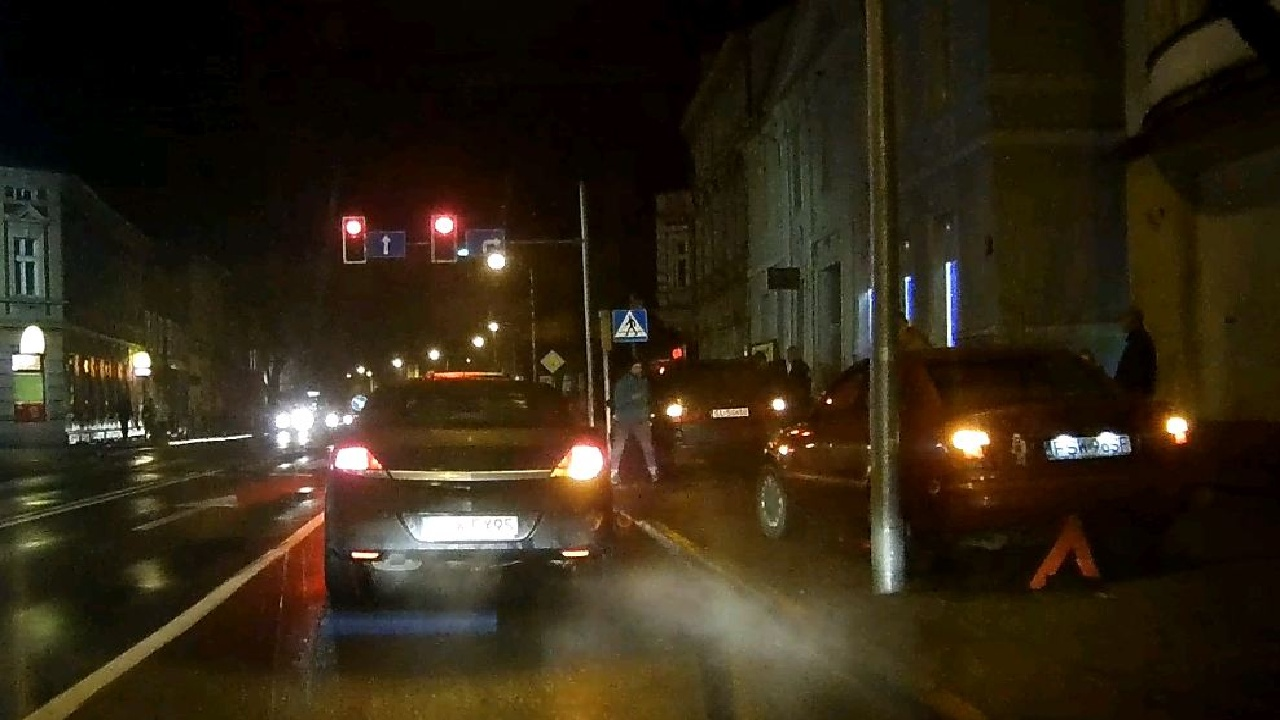D6: (612, 309, 648, 342)
Red: (435, 217, 454, 259), (347, 219, 362, 260)
